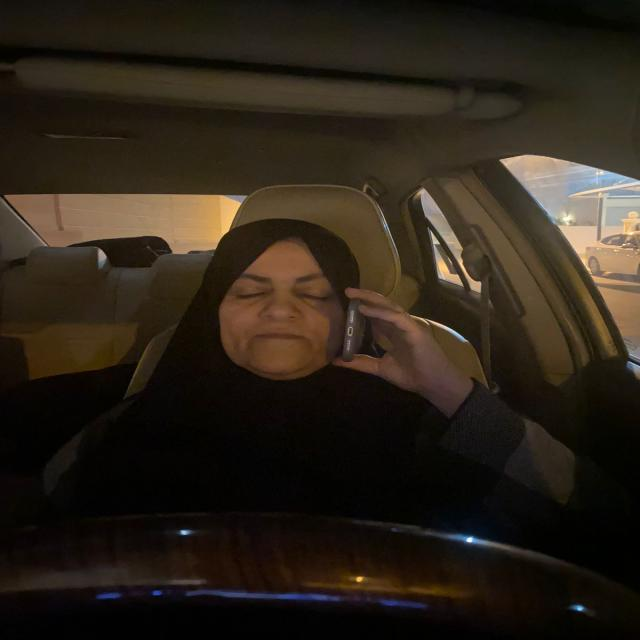drowsy: (212, 225, 344, 386)
mobile: (335, 298, 372, 367)
